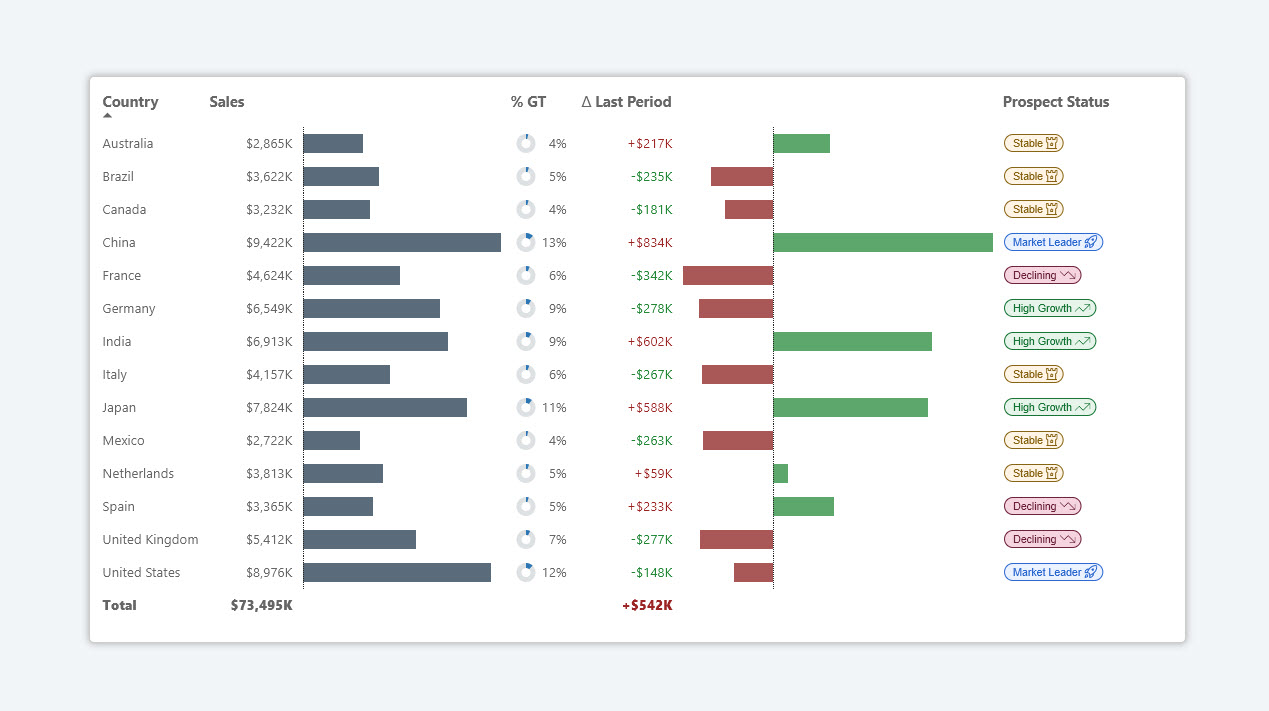

This screenshot's page, from the dashboard's own definition file:
{"tool":"powerbi","page":{"name":"Page 1","canvas":[1280,720],"ordinal":0},"visuals":[{"type":"tableEx","title":"Sales by Country","fields":{"Values":["Data.Country","Data.Sales","Data.Sales Bar","Data.SVG Donut","Data.Delta LP","Data.Delta Bar","Data.Square"]},"box":[90.8,75.8,1097.5,567.5],"z":2000}]}

Visuals, with their boxes in screenshot pixels (x1, y1, x2, y2), scaled from the page's 1280x720 canvas onto the 1269x711 screenshot:
"Sales by Country" tableEx: region(90, 75, 1178, 635)
